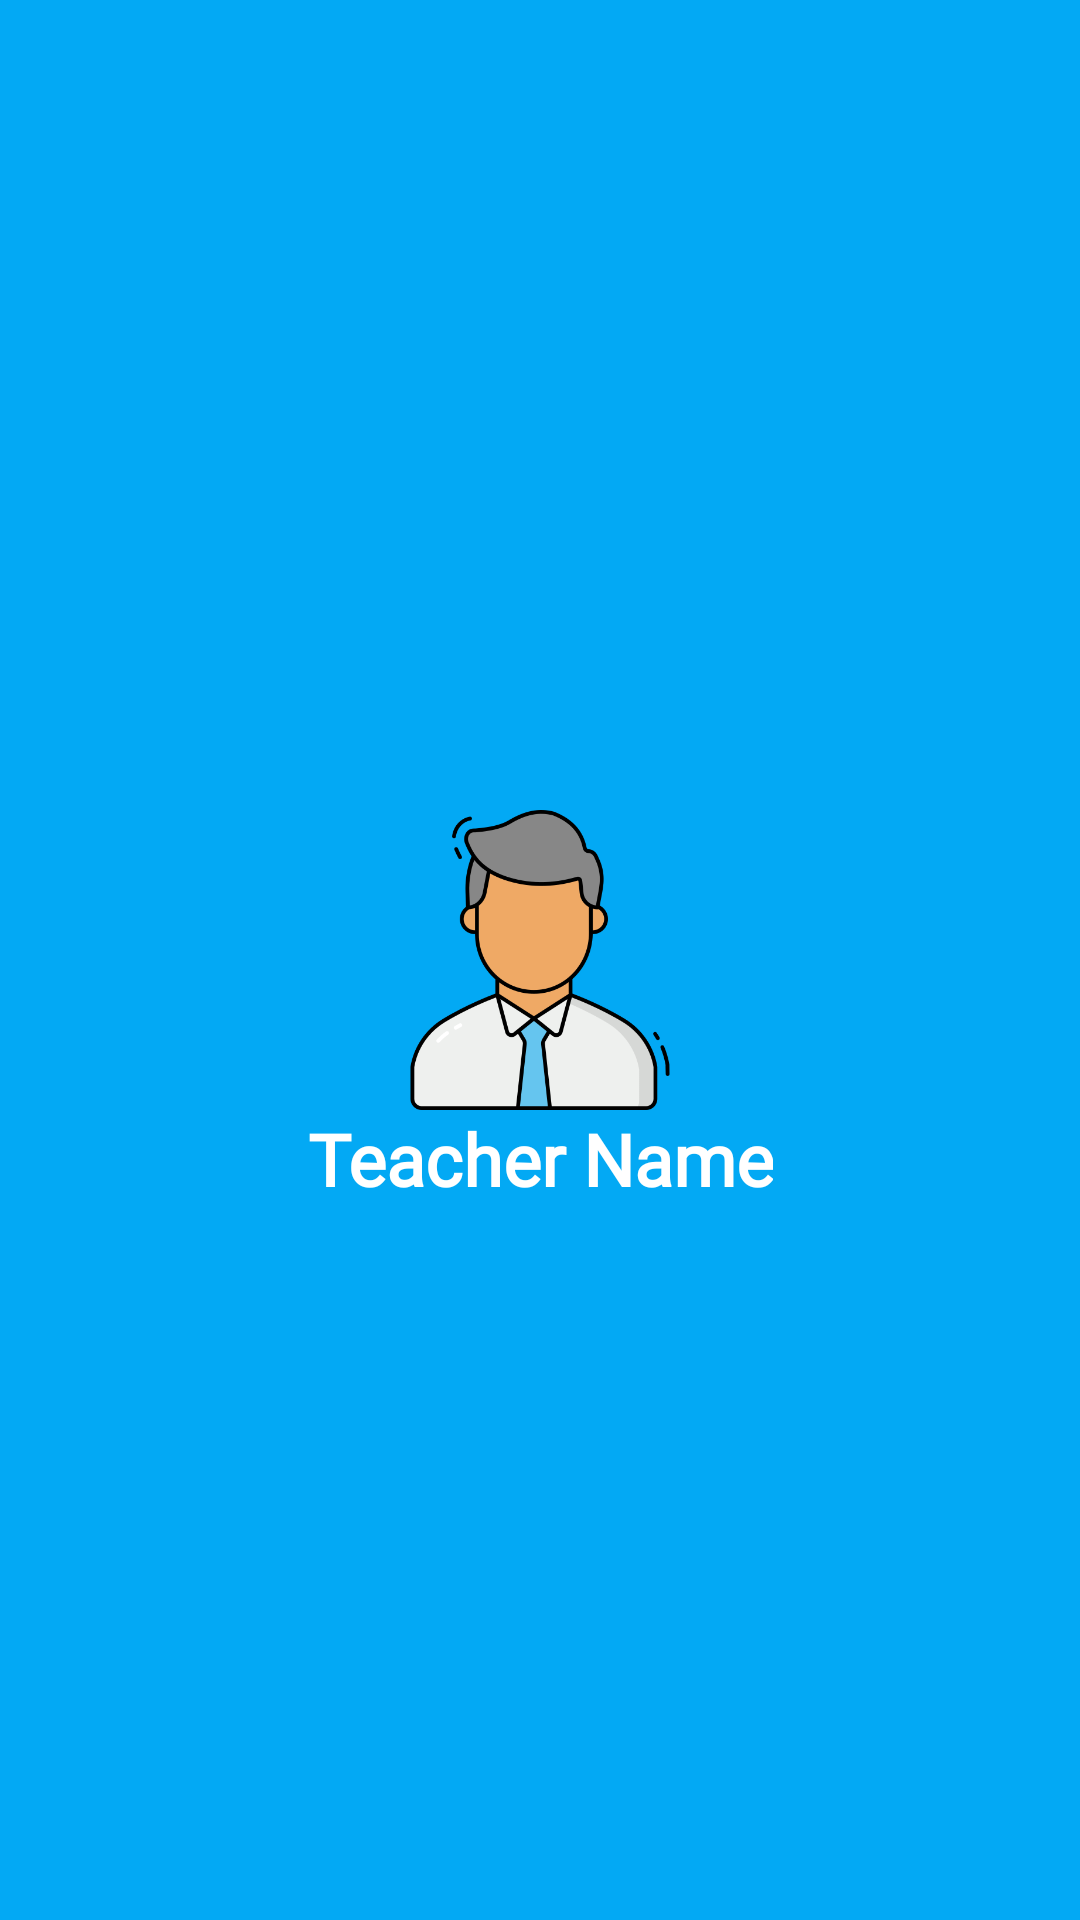

Screen size 1080x1920. Icon name, then its box in pixels as [x1,y1,x2,y2]:
Header Image: [410,810,670,1110]
